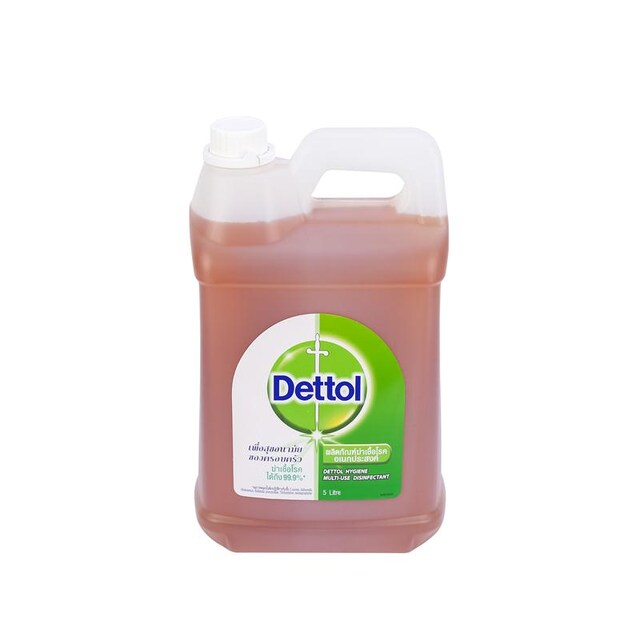Cleaning_solution: (186, 109, 457, 558)
